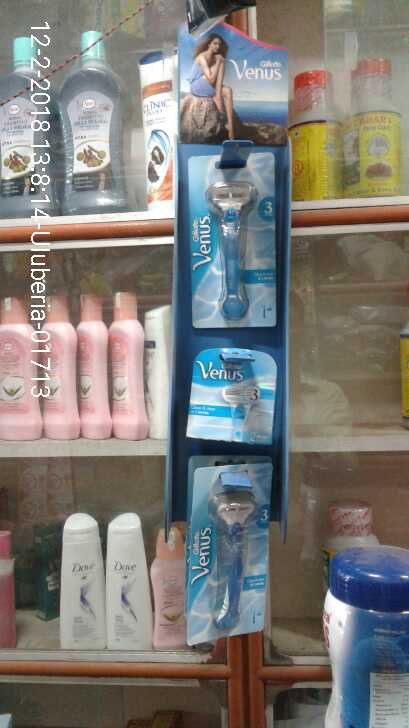venus: (188, 470, 278, 645), (186, 150, 273, 324), (184, 351, 282, 455)
